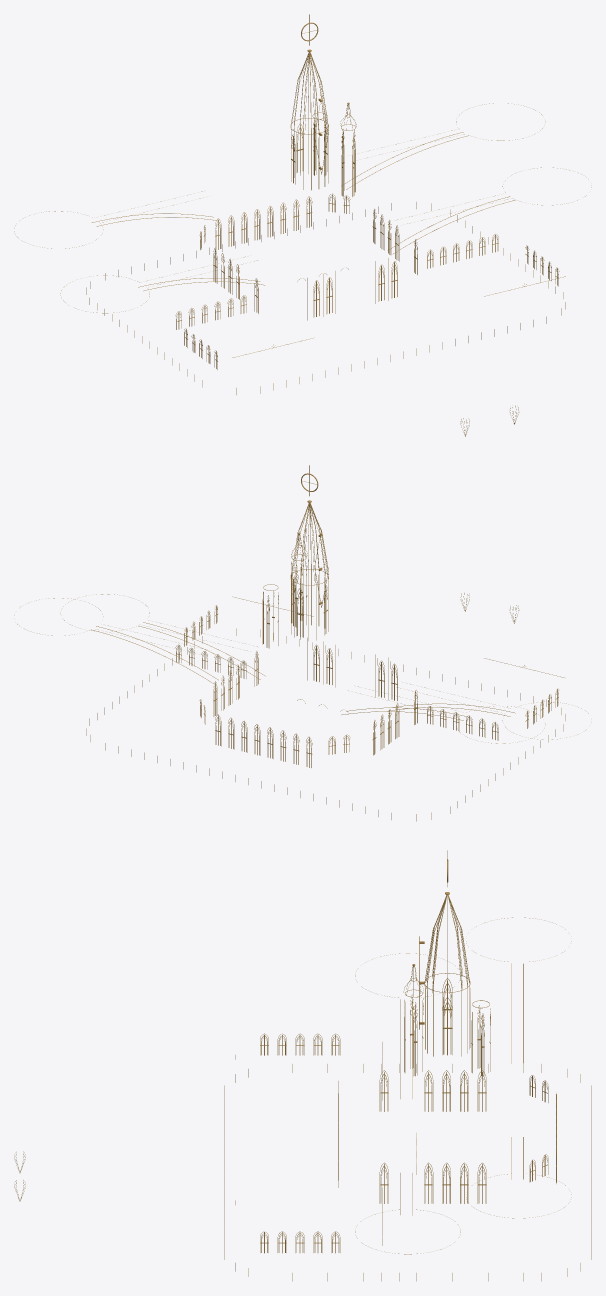
Rendered from Spaceport-04.glb.
3 renders of one model, top to bottom at view 1: azimuth 30°, elevation 25°; view 2: azimuth 150°, elevation 25°; view 3: azimuth 270°, elevation 25°, orthographic. The views are drawn at different scales.
Visible parts, largest first — view 1: NSP01.Native.4.0.Gold, NSP01.Native.4.1.Gold; view 2: NSP01.Native.4.0.Gold, NSP01.Native.4.1.Gold; view 3: NSP01.Native.4.0.Gold, NSP01.Native.4.1.Gold.
Part boxes in pixels (<box>): NSP01.Native.4.0.Gold: <box>86,14,565,436</box>; NSP01.Native.4.1.Gold: <box>14,103,591,320</box>; NSP01.Native.4.0.Gold: <box>86,465,565,821</box>; NSP01.Native.4.1.Gold: <box>14,594,588,767</box>; NSP01.Native.4.0.Gold: <box>14,850,591,1281</box>; NSP01.Native.4.1.Gold: <box>235,917,571,1254</box>.
Bounding box in the file's own units: 719 × 376 × 584.
